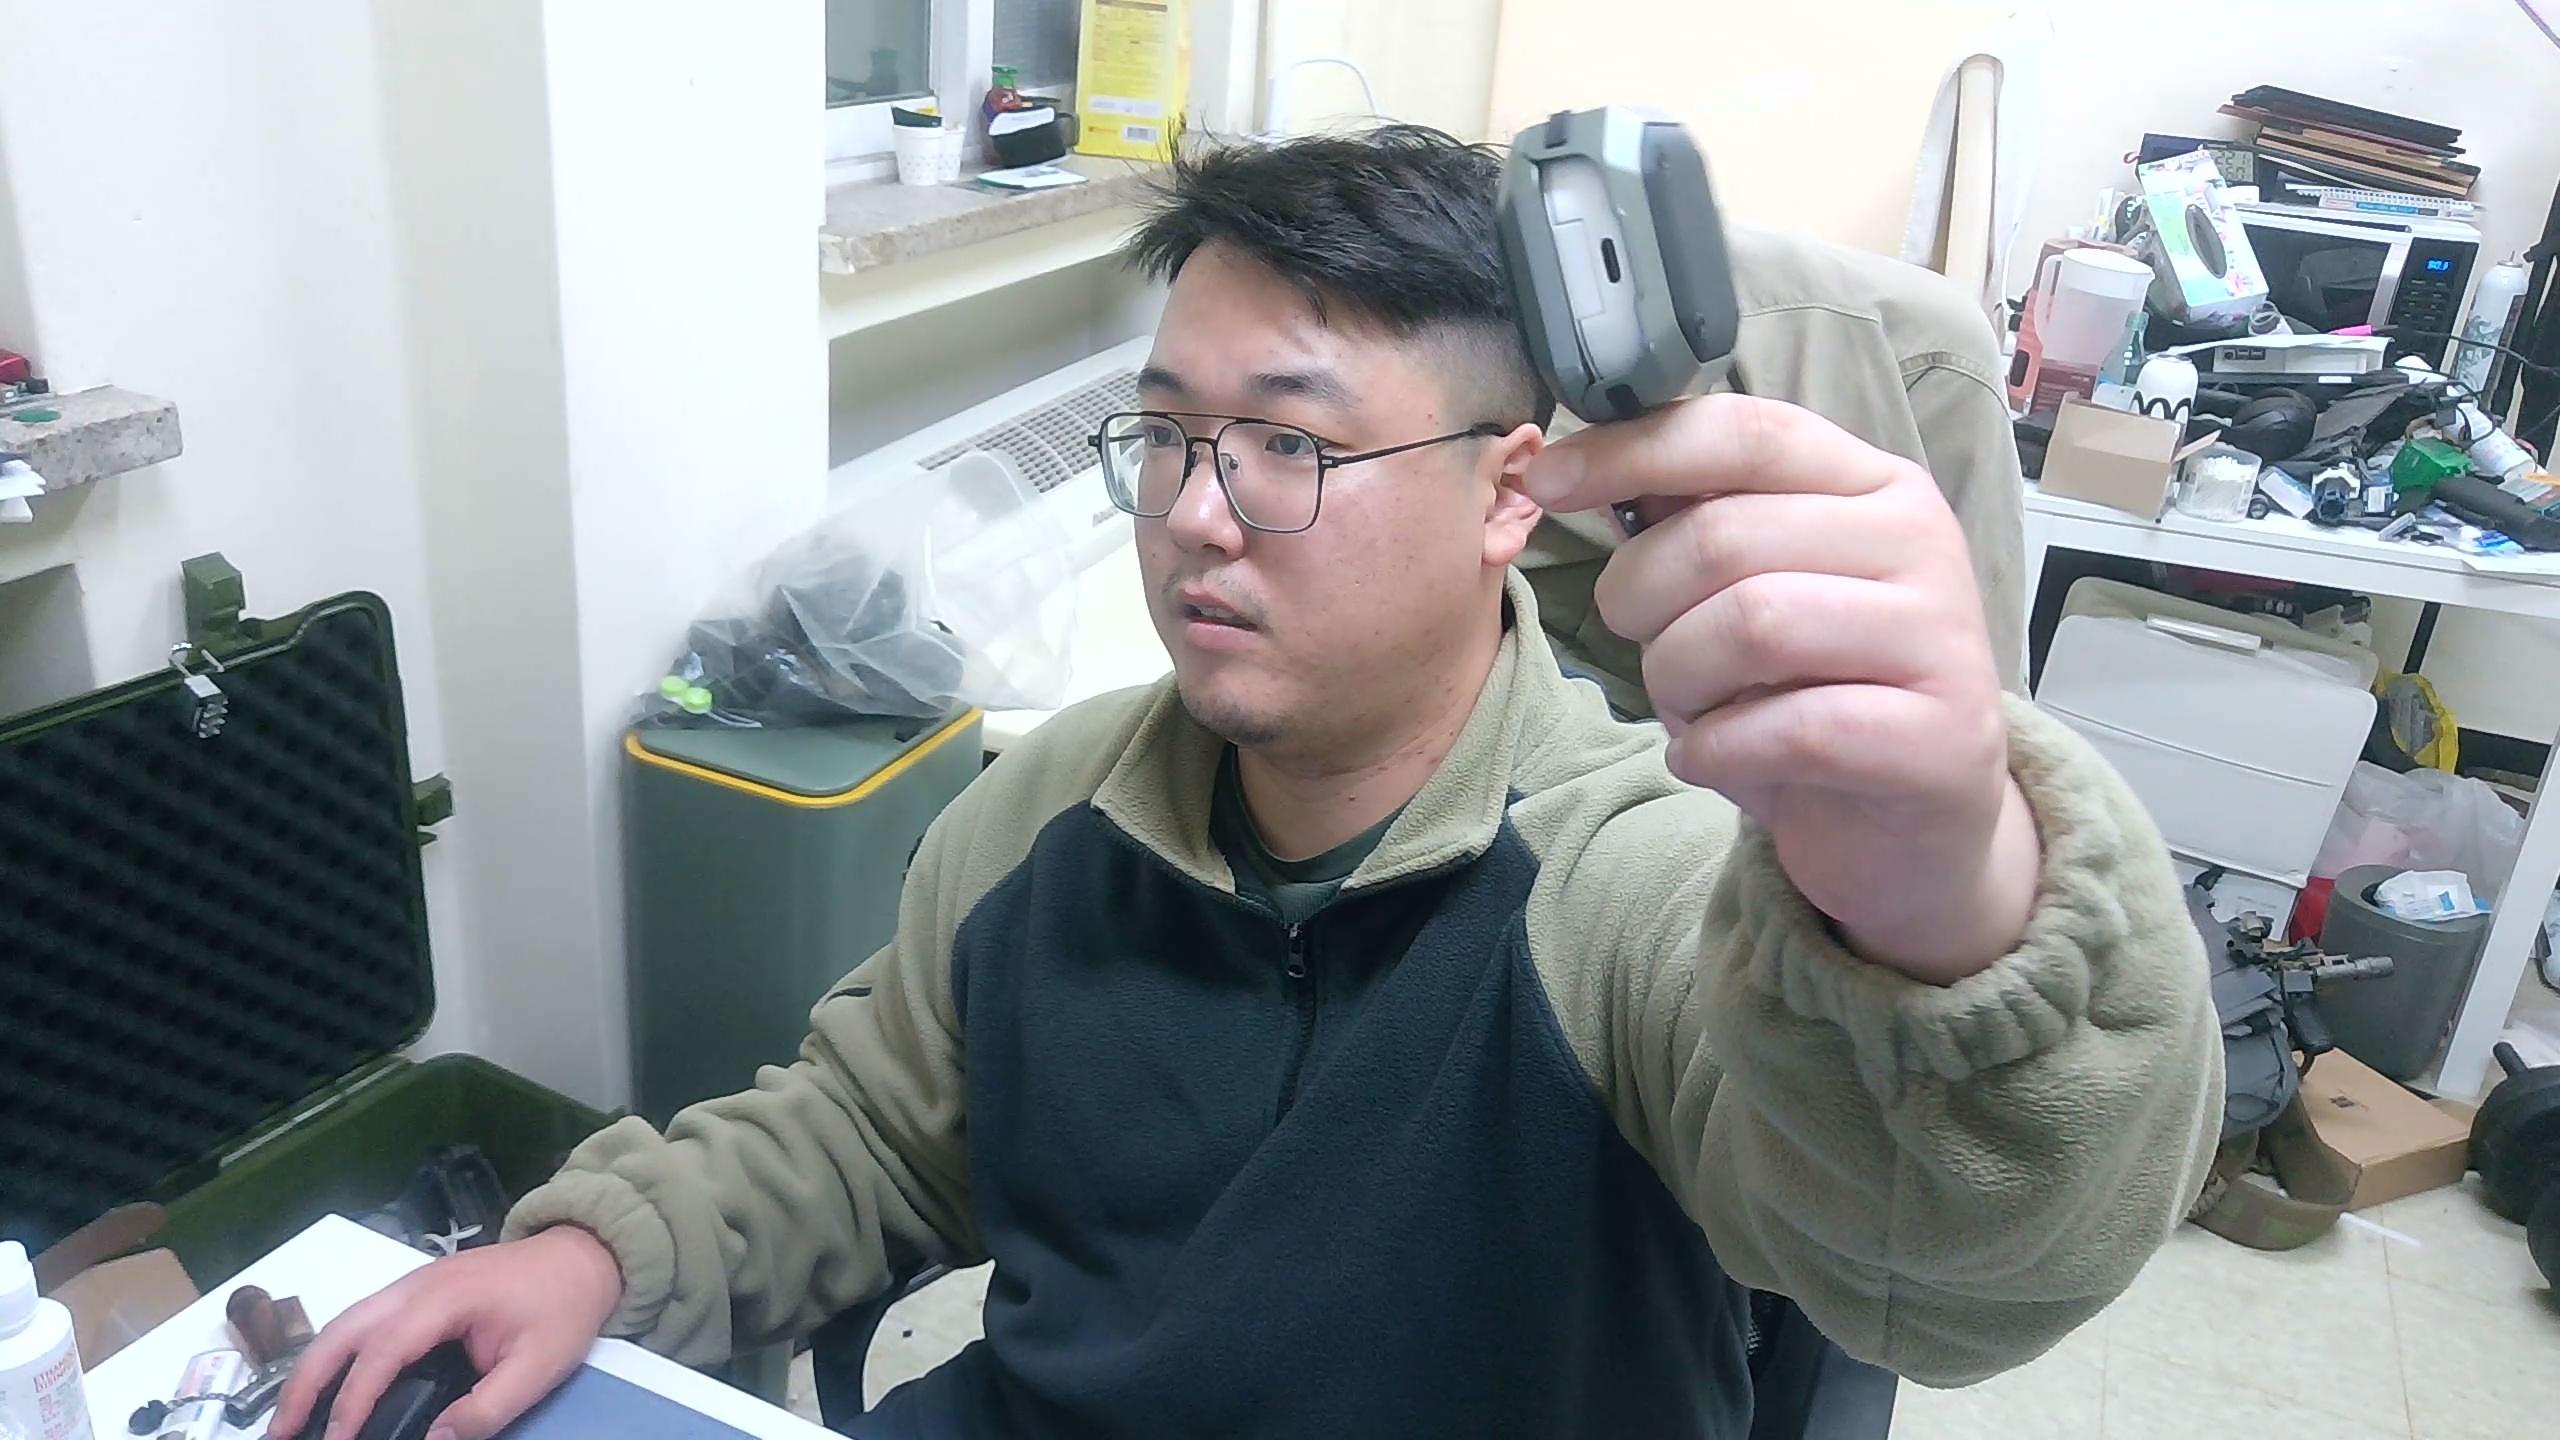blue_pliers: (1495, 102, 1744, 424)
